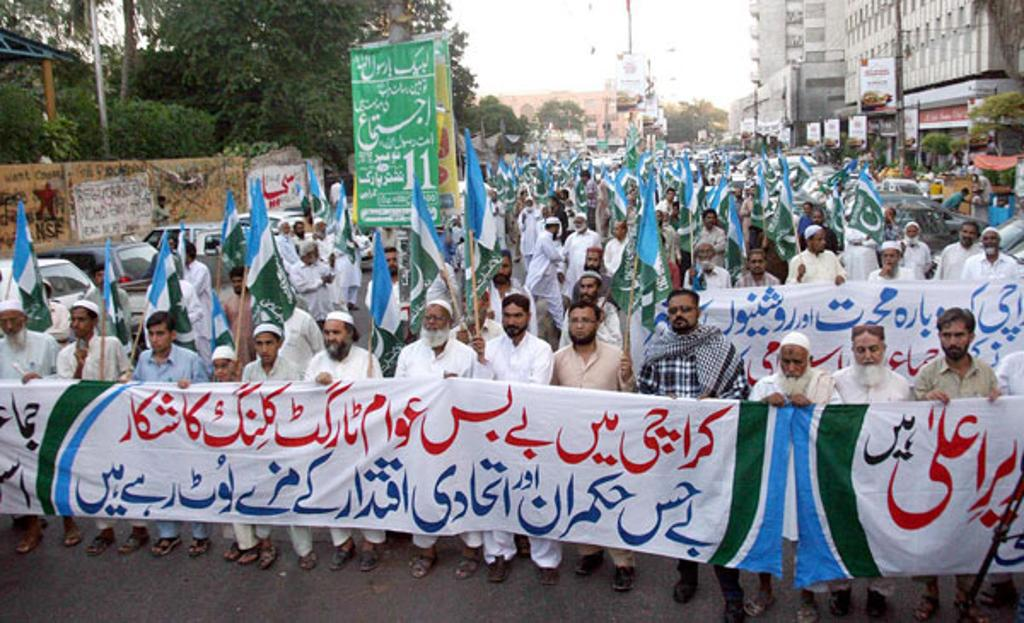face: (941, 320, 969, 358), (854, 337, 884, 370), (669, 297, 698, 329), (570, 310, 598, 341), (780, 348, 807, 380), (325, 322, 348, 355), (424, 308, 448, 338), (503, 306, 527, 336), (256, 335, 278, 364), (1, 311, 24, 337), (72, 310, 92, 339), (149, 328, 171, 353), (493, 257, 512, 282), (215, 359, 234, 381), (581, 280, 599, 303), (960, 225, 977, 246), (983, 232, 999, 253), (232, 275, 248, 295), (385, 253, 400, 274), (749, 254, 765, 273), (810, 233, 825, 253), (883, 250, 898, 270), (698, 245, 713, 262), (97, 272, 112, 288), (587, 252, 601, 269), (307, 246, 319, 263), (614, 223, 625, 237), (907, 226, 919, 238), (705, 215, 716, 228), (295, 223, 305, 235), (575, 218, 585, 230), (315, 223, 325, 233), (814, 212, 823, 223), (887, 209, 894, 222), (401, 240, 410, 250), (283, 225, 290, 234), (668, 192, 675, 200), (751, 189, 758, 197), (805, 204, 811, 212), (514, 207, 520, 215), (550, 199, 556, 207), (550, 225, 557, 231), (736, 189, 741, 196), (438, 229, 443, 235), (657, 213, 662, 219), (663, 213, 667, 220), (522, 193, 527, 198), (492, 193, 496, 199), (528, 200, 532, 206), (561, 193, 565, 199), (674, 207, 678, 212)
